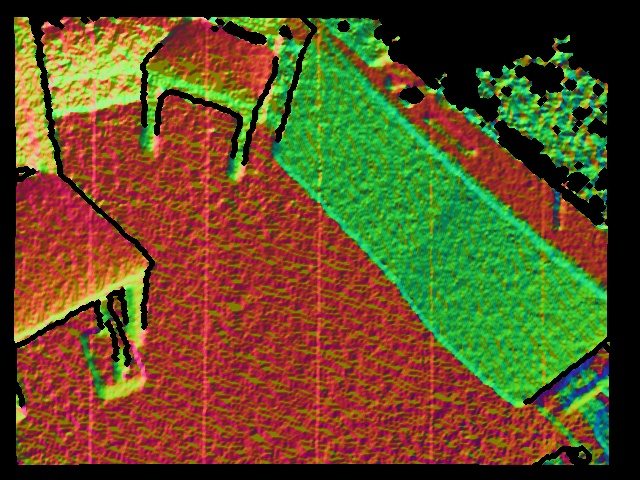station: (80, 299, 148, 401)
